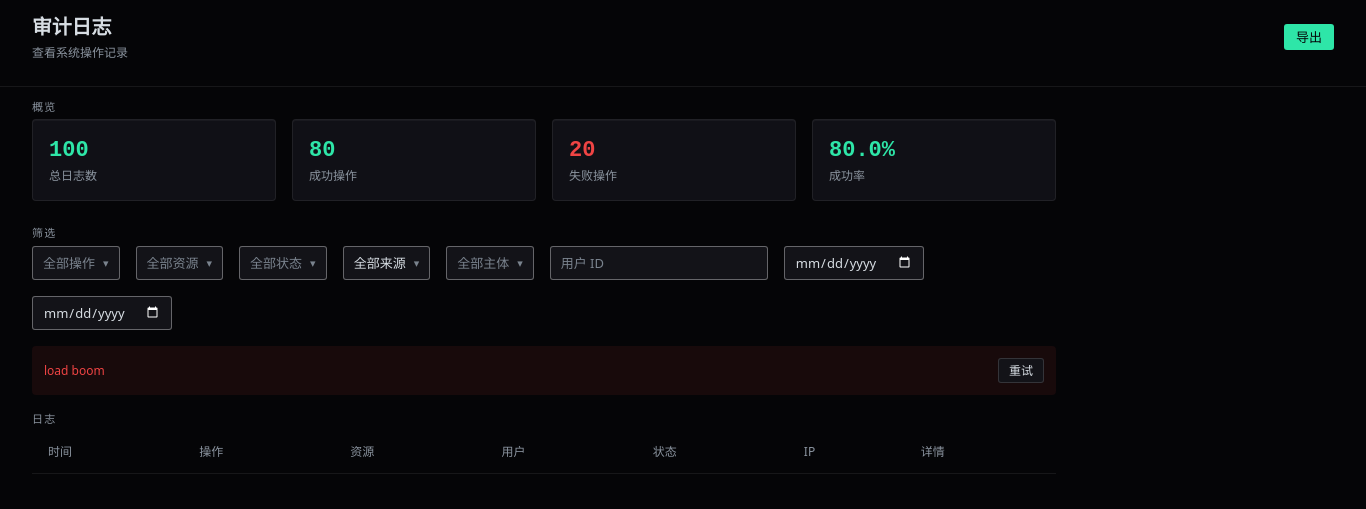
Scenario: AuditLogsPage（E7 审计日志页改造） › 批次 F-4：加载失败错误条带「重试」，点击后重新拉取并恢复列表
The width and height of the screenshot is (1366, 509).
Expected: the text "load boom" is shown, [44,362,105,379]
Click the button "重试": (1021, 370) [998,358,1044,383]
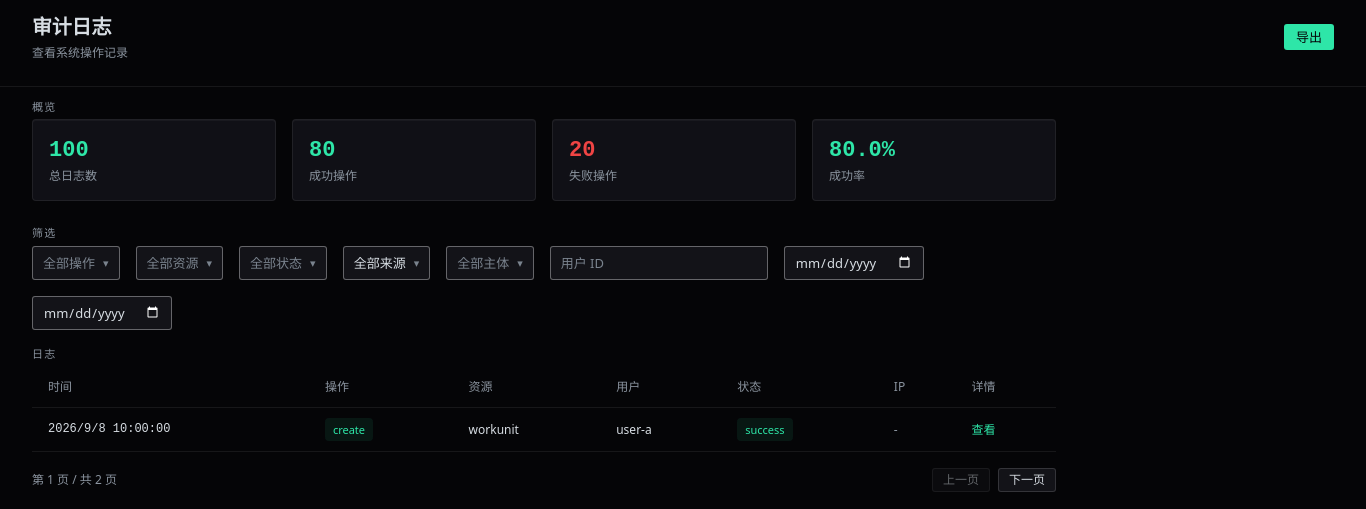
Now the text "user-a" is shown, box [600,408,721,451]
Now the text "load boom" is gone
